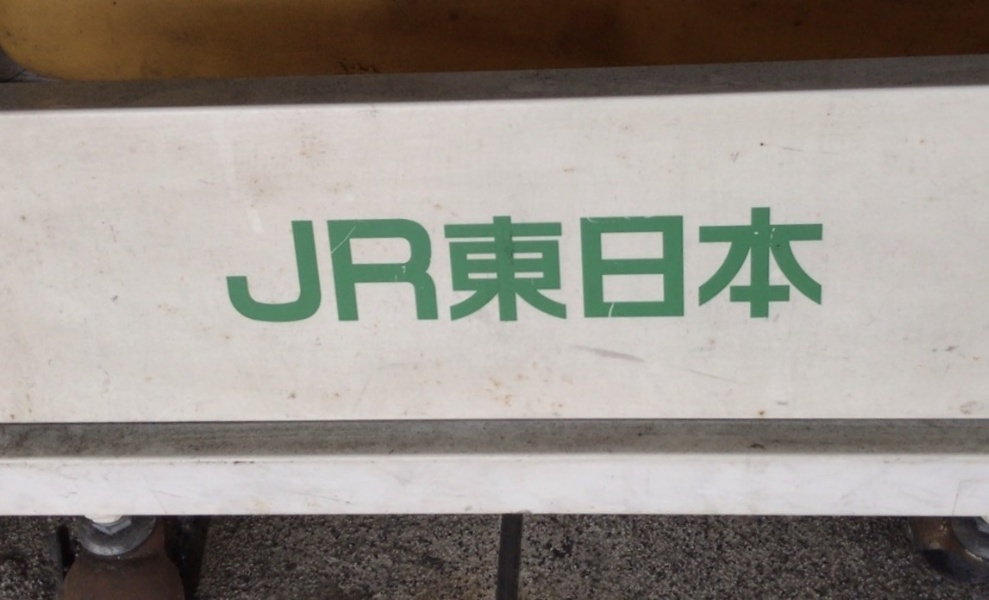text: (225, 206, 240, 326), (241, 206, 256, 326), (257, 206, 272, 326), (273, 206, 288, 326), (289, 206, 304, 326), (305, 206, 320, 326), (321, 206, 336, 326), (337, 206, 352, 326), (353, 206, 368, 326), (369, 206, 384, 326), (385, 206, 400, 326), (401, 206, 416, 326), (417, 206, 432, 326), (433, 206, 448, 326), (449, 206, 464, 326), (465, 206, 480, 326), (481, 206, 496, 326), (497, 206, 512, 326), (513, 206, 528, 326), (529, 206, 544, 326), (545, 206, 560, 326), (561, 206, 576, 326), (577, 206, 592, 326), (593, 206, 608, 326), (609, 206, 624, 326), (625, 206, 640, 326), (641, 206, 656, 326), (657, 206, 672, 326), (673, 206, 688, 326), (689, 206, 704, 326), (705, 206, 720, 326), (721, 206, 736, 326), (737, 206, 752, 326), (753, 206, 768, 326), (769, 206, 784, 326), (785, 206, 800, 326), (801, 206, 816, 326), (817, 206, 824, 326), (223, 206, 224, 326)
